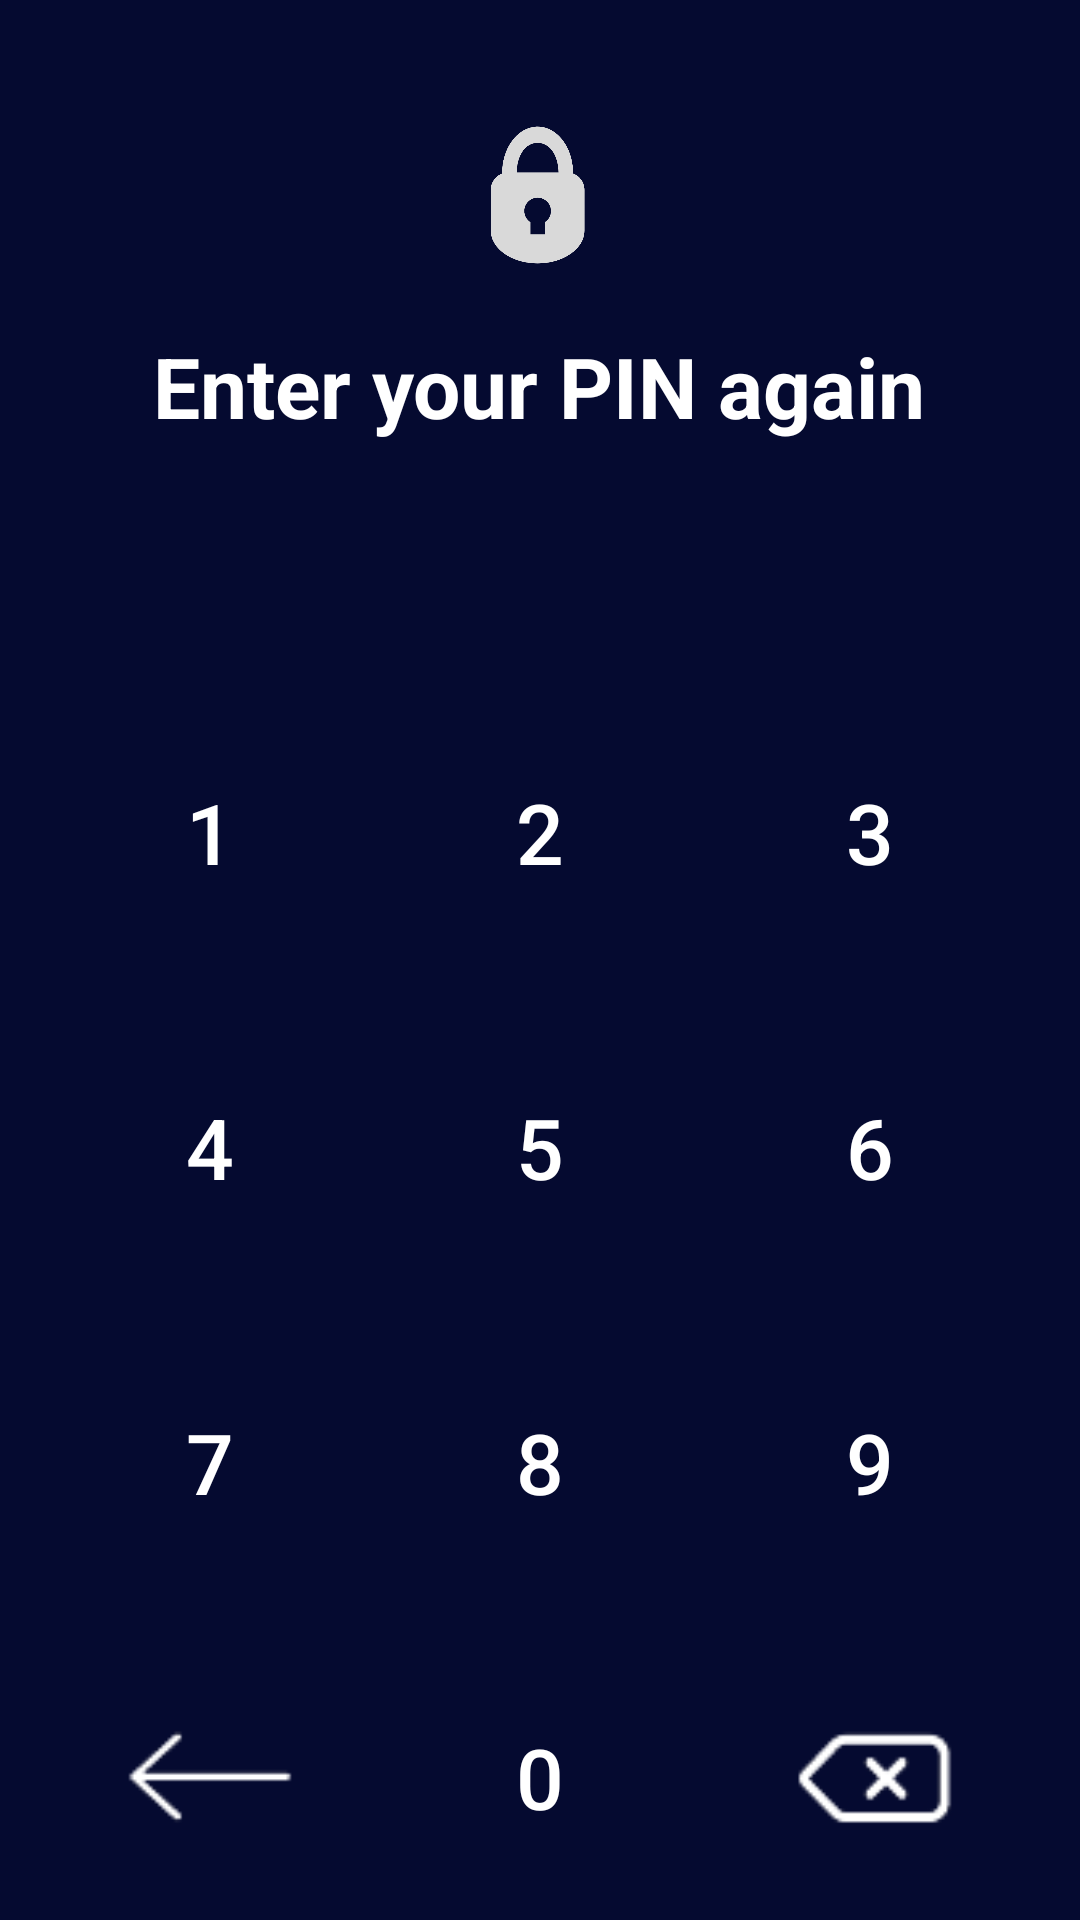

Named icons in this screenshot (1080 × 1920) and their bounding boxes, (x1, y1, x2, y2):
erase: (798, 1733, 951, 1823)
lock: (491, 126, 585, 264)
